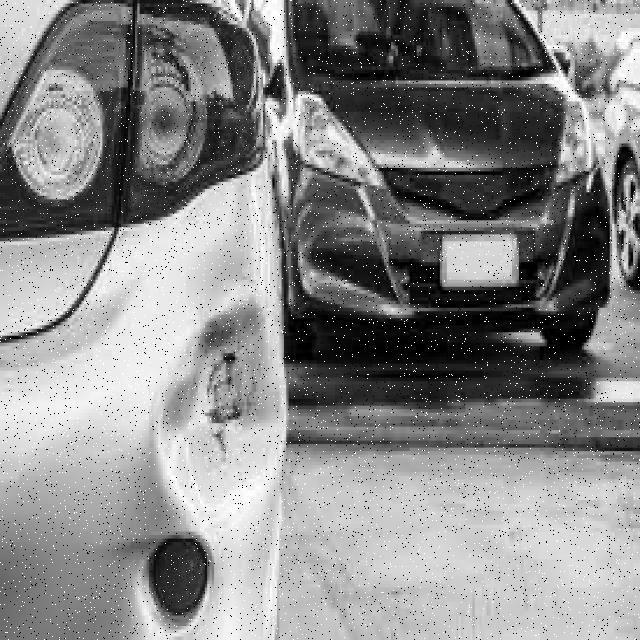rear-bumper-dent: (1, 210, 308, 636)
